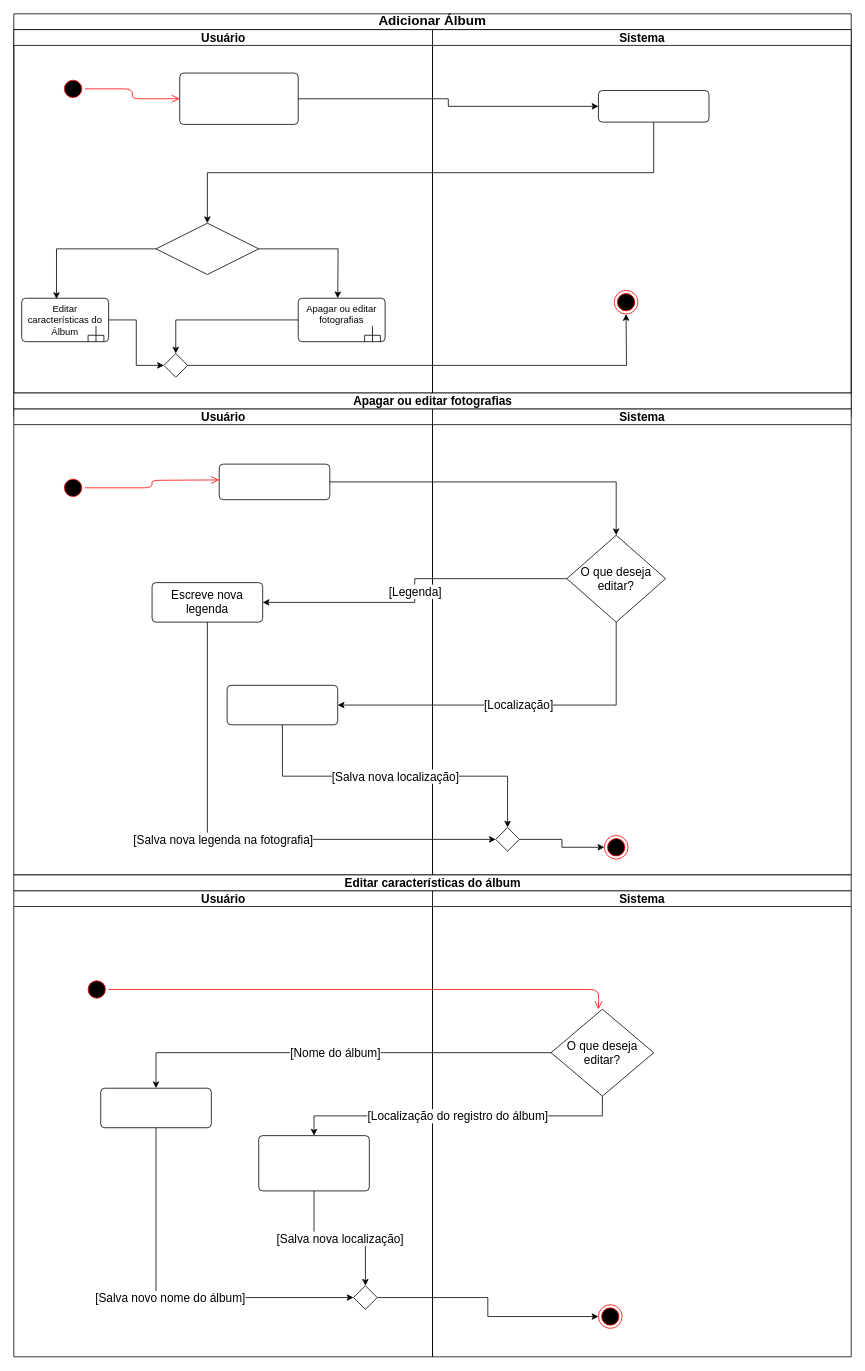
Some shapes in this 865 by 1371 pixel diagram are drawn without their labels. The shapes that lost their labels are listed below. From the top down, each one's centre as x and y in pixels, then its label:
the point at 238,98: Seleciona álbum que deseja editar na galeria de álbuns
the point at 653,106: Abre álbum em modo de edição
the point at 207,248: O que deseja edita?
the point at 274,481: Seleciona foto que deseja editar
the point at 282,705: Seleciona nova localização
the point at 155,1107: Escolhe novo nome do álbum
the point at 313,1163: Região onde as fotografias foram registradas
